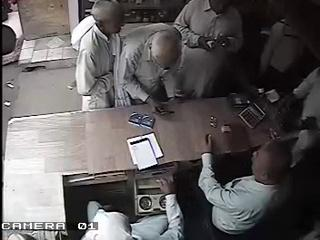Normal: (198, 132, 294, 240), (172, 0, 254, 99), (80, 172, 184, 239), (114, 23, 183, 113)
shoplifting: (74, 0, 126, 112)
